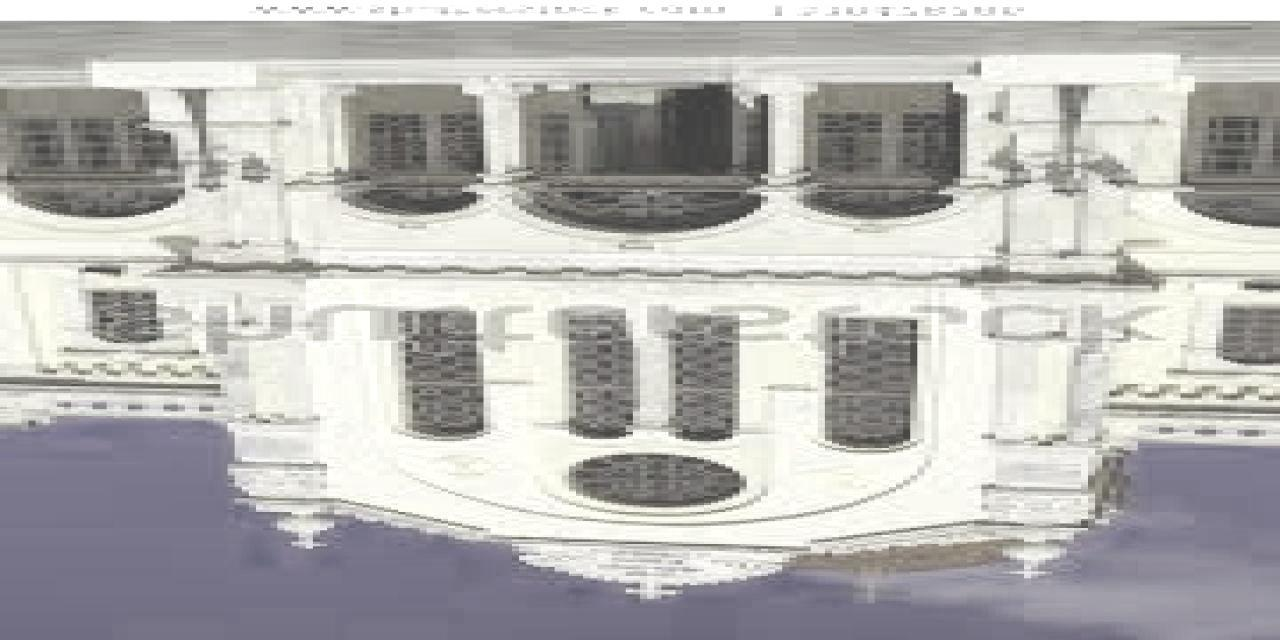Agios Minas: (1, 53, 1280, 606)
